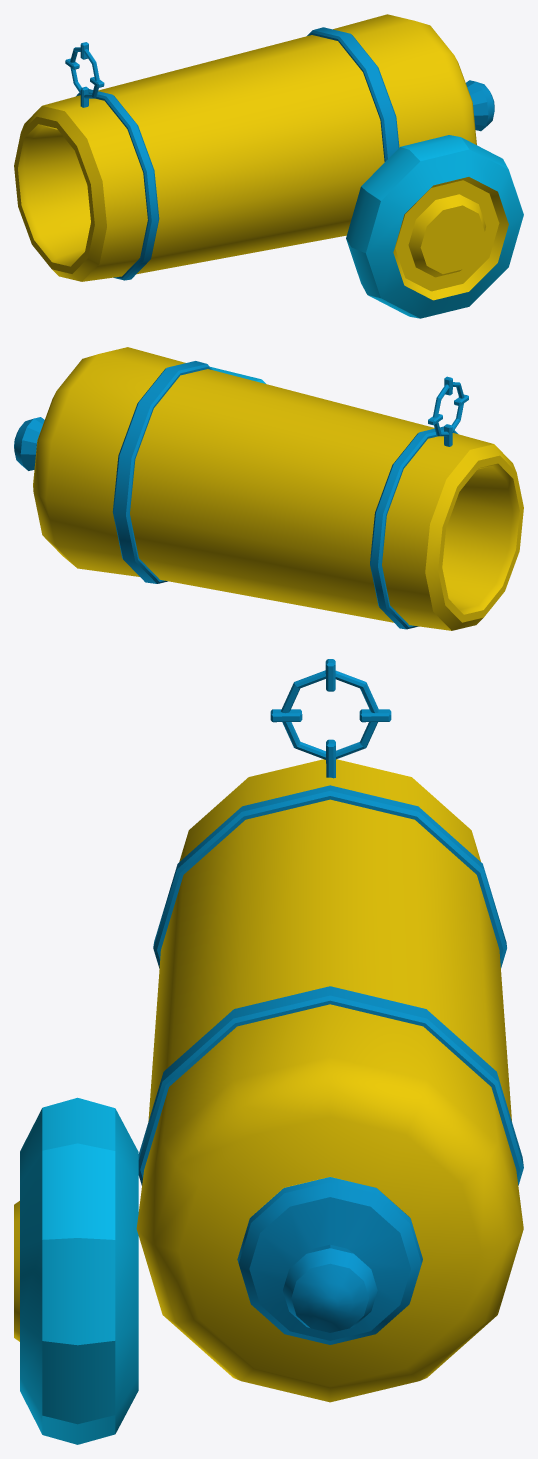
The model's file is canon_ball.fbx.
The picture shows the model from 3 angles, top to bottom: view 1: azimuth 30°, elevation 25°; view 2: azimuth 150°, elevation 25°; view 3: azimuth 270°, elevation 25°; orthographic projection. The views are drawn at different scales.
Visible parts, largest first — view 1: polySurface1, pCylinder2, pCube8, polySurface2; view 2: polySurface1, polySurface2, pCube8; view 3: polySurface1, pCylinder2, polySurface2, pCube8.
Part boxes in pixels (x1,y1,x2,y2): polySurface1: (14, 14, 476, 281); pCylinder2: (346, 135, 523, 318); pCube8: (65, 42, 104, 107); polySurface2: (466, 80, 494, 131); polySurface1: (33, 347, 523, 630); polySurface2: (14, 417, 44, 470); pCube8: (428, 376, 468, 446); polySurface1: (136, 759, 523, 1402); pCylinder2: (14, 1097, 138, 1444); polySurface2: (237, 1177, 422, 1344); pCube8: (270, 659, 391, 778).
Size of the model in its own units: 19.66 by 12.18 by 10.95.
